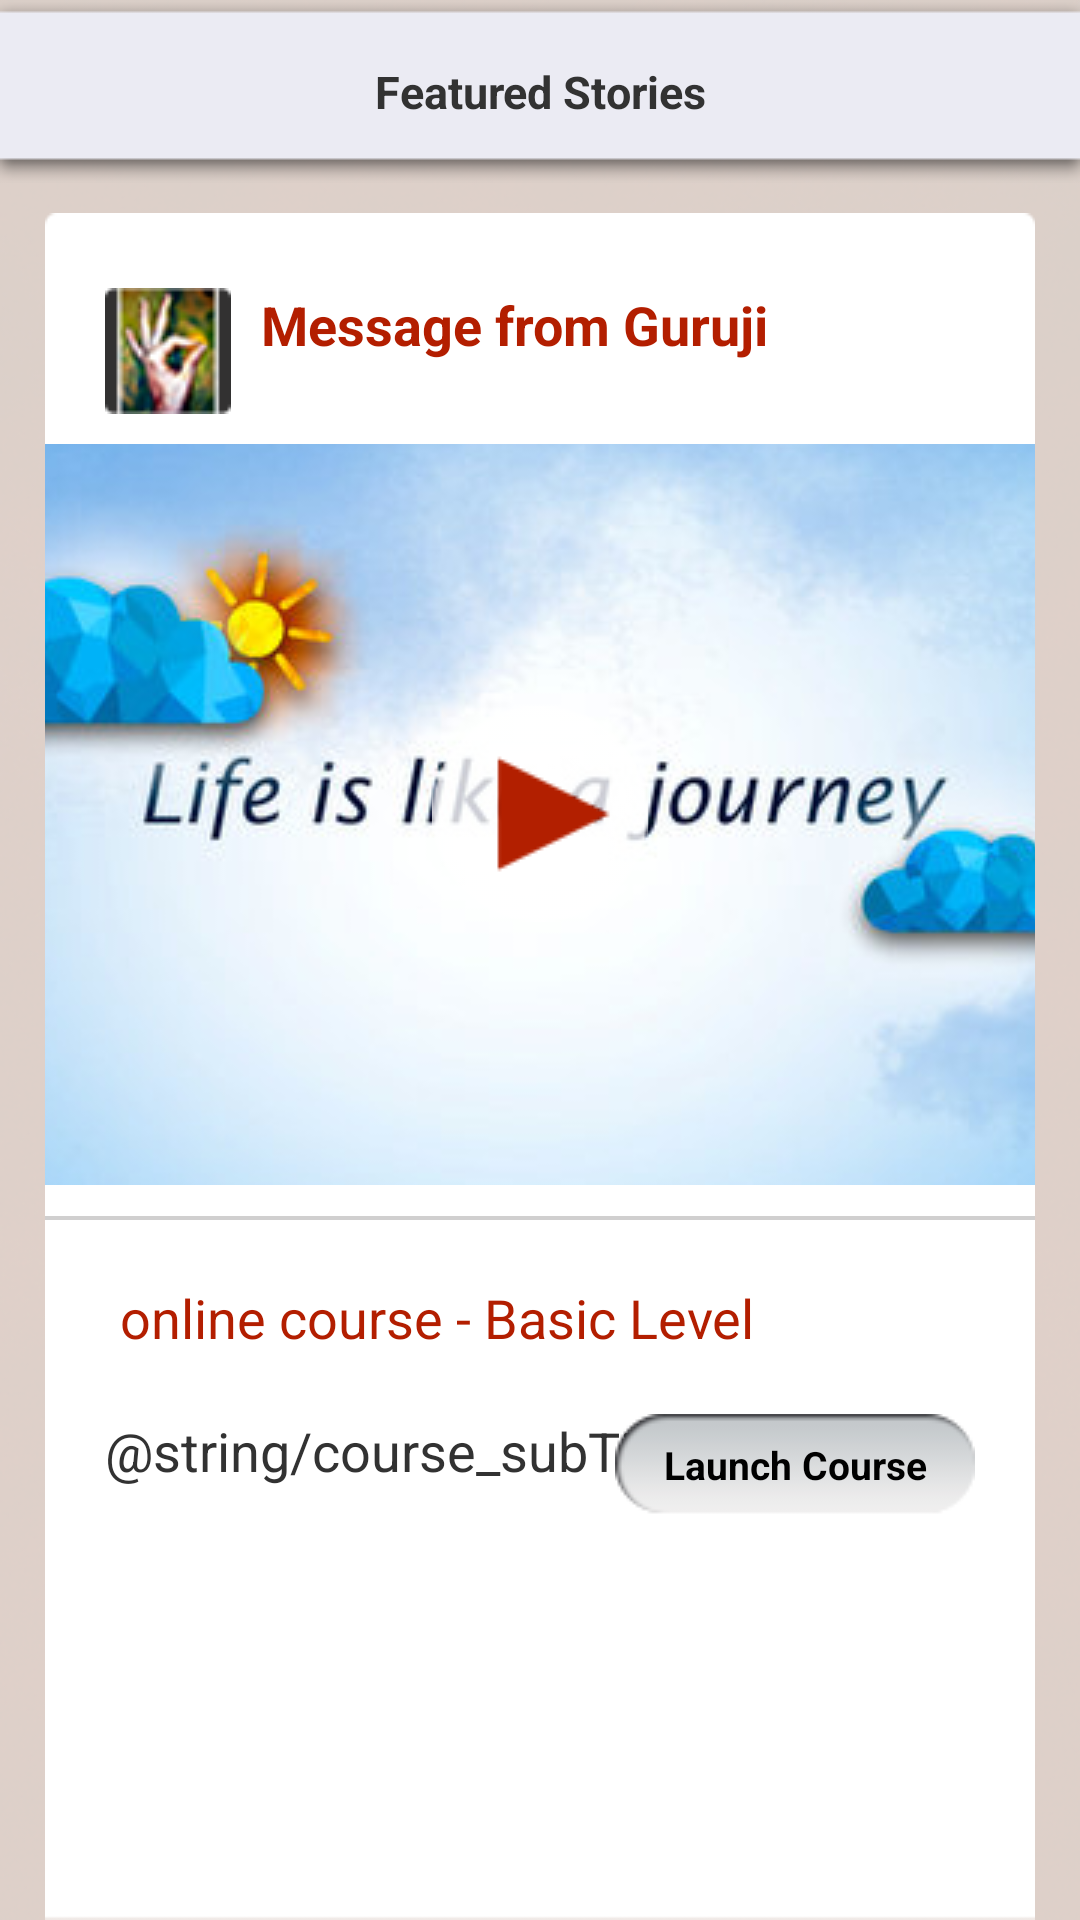

Locate icon controls on the screen. Image size 1080x1920, boxes as (x1, y1, x2, y2).
play: (435, 757, 610, 871)
